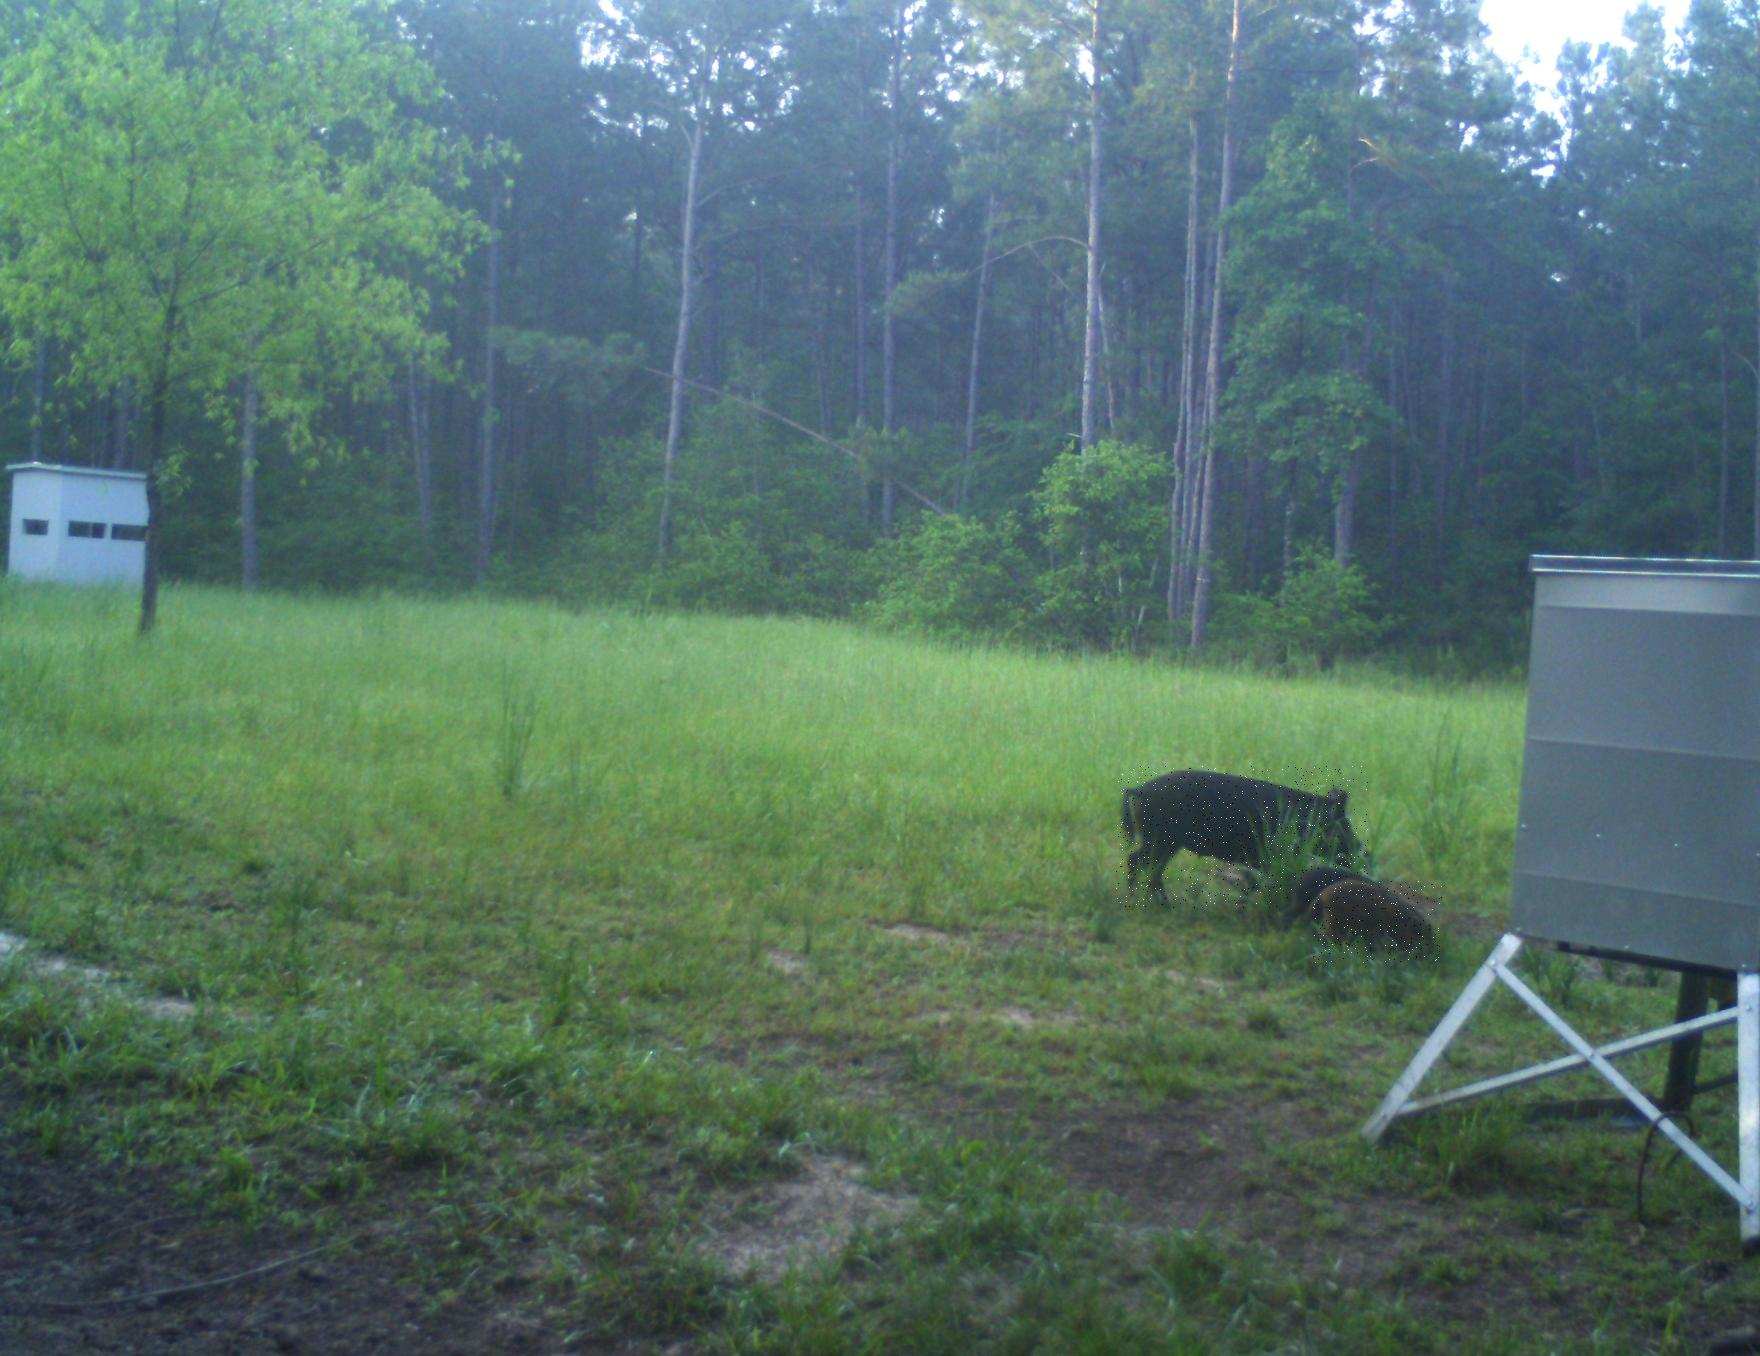Hog: (1116, 766, 1368, 907), (1313, 882, 1442, 963)
